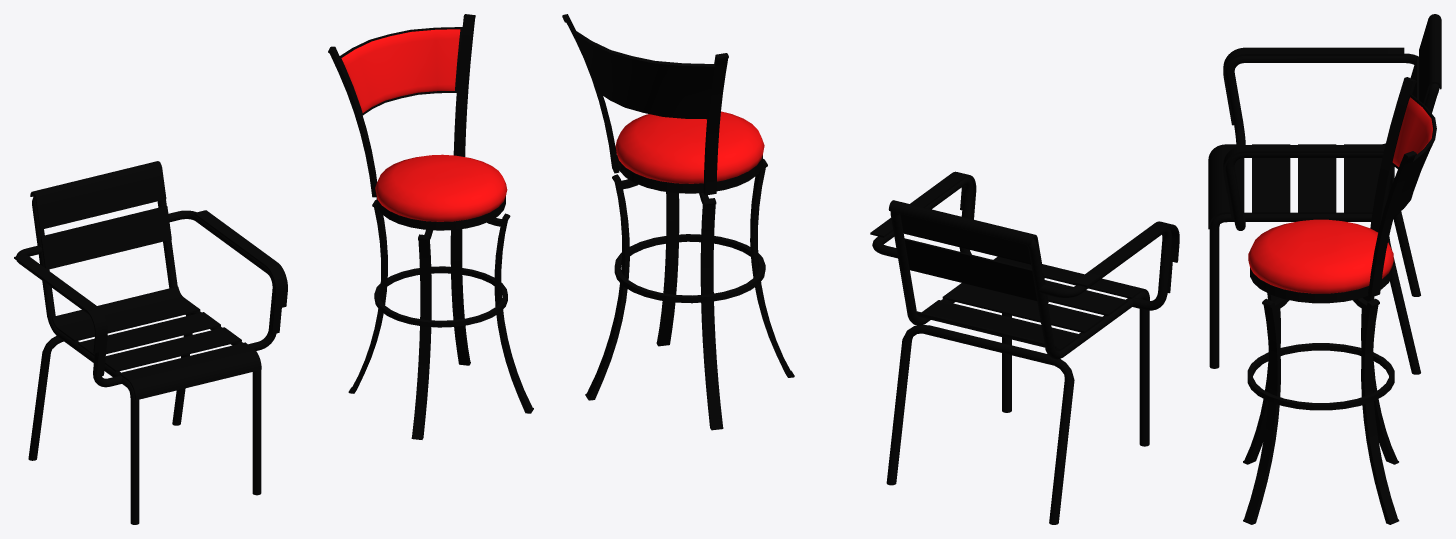
The model's file is Chairs.FBX.
The picture shows the model from 3 angles, left to right: view 1: azimuth 30°, elevation 25°; view 2: azimuth 150°, elevation 25°; view 3: azimuth 270°, elevation 25°; orthographic projection. The views are drawn at different scales.
Parts seen in each view (by area): view 1: Chair_1, Chair_2; view 2: Chair_1, Chair_2; view 3: Chair_2, Chair_1.
Part boxes in pixels (bbox=[...]): Chair_1: bbox=[14, 161, 287, 524]; Chair_2: bbox=[328, 14, 533, 439]; Chair_1: bbox=[870, 171, 1179, 524]; Chair_2: bbox=[562, 14, 794, 430]; Chair_2: bbox=[1243, 77, 1436, 524]; Chair_1: bbox=[1208, 14, 1441, 374].
Size of the model in its own units: 51.55 by 36.18 by 20.32.
